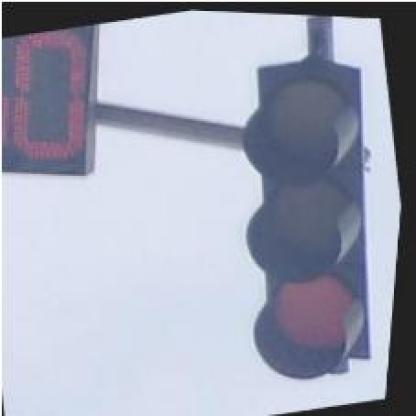red: (204, 44, 413, 388)
